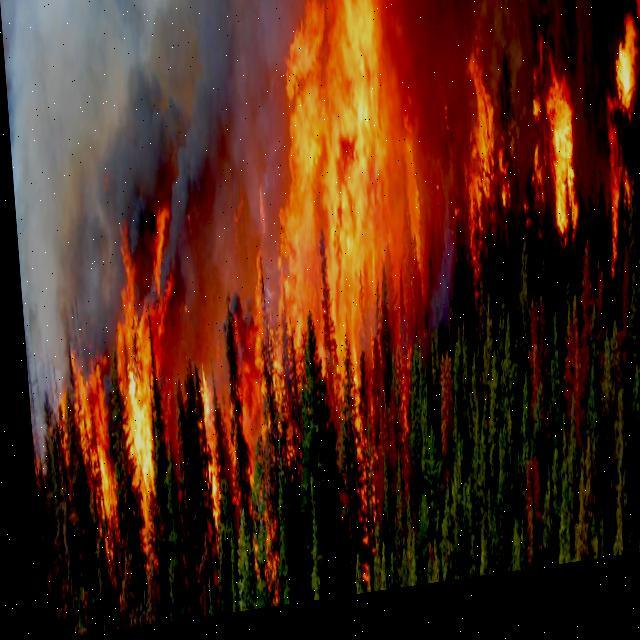Fire: (210, 0, 442, 508), (49, 316, 120, 570), (106, 229, 164, 530), (448, 52, 506, 267), (534, 64, 588, 279), (601, 29, 639, 145)
